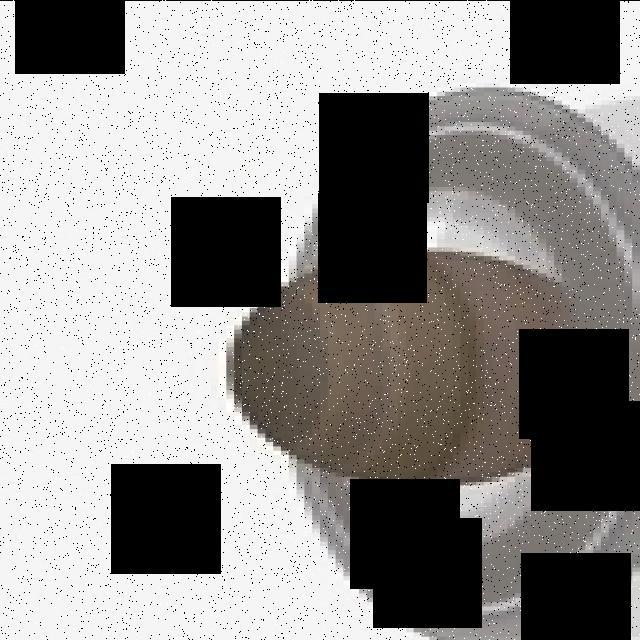Saturn: (226, 82, 640, 640)
